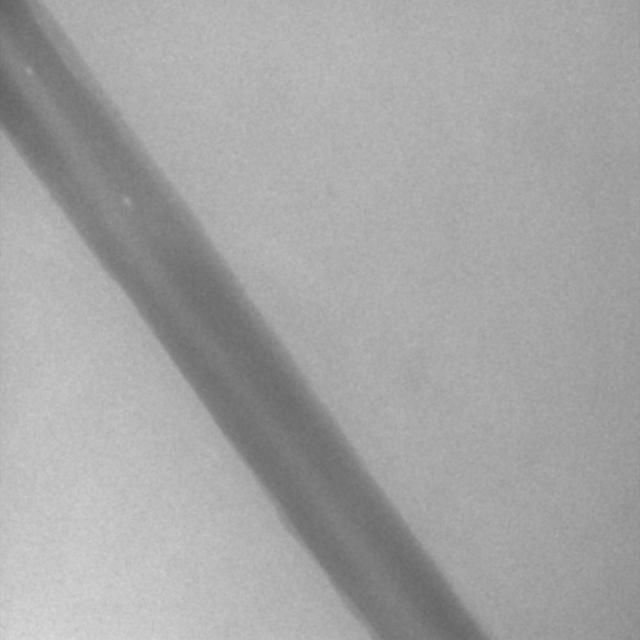air-hole: (15, 62, 34, 79), (120, 193, 136, 211)
